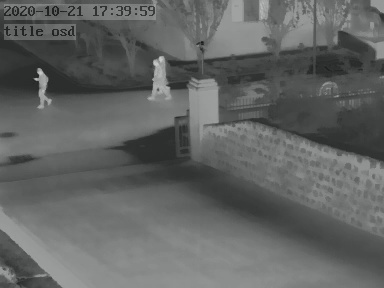person: (149, 55, 170, 100), (34, 68, 51, 109)
